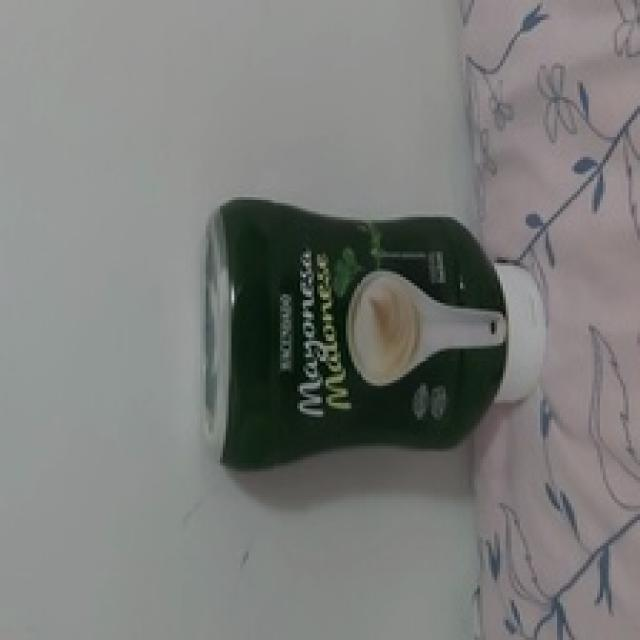Plastic: (202, 191, 546, 468)
